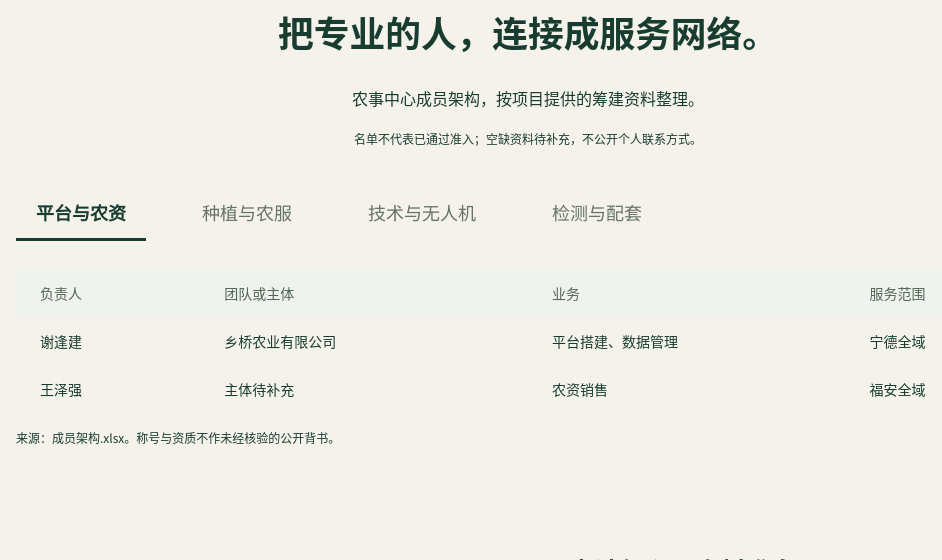
it: 官网农事卡、筹建成员与执行标准 › 保留12条有效筹建记录，不推断空缺，不公开称号背书
Expected: the text "名单不代表已通过准入；空缺资料待补充，不公开个人联系方式。" is shown, x1=354 y1=130 x2=702 y2=147
Expected: the text "谢逢建" is shown, x1=16 y1=317 x2=200 y2=365
Click the tab "技术与无人机": (422, 213) x1=348 y1=186 x2=496 y2=241
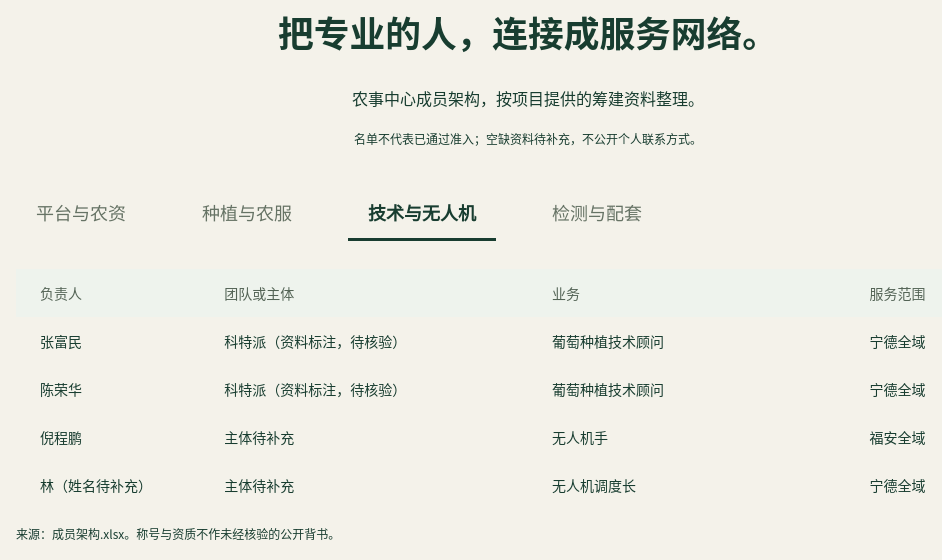
Result: the text "林（姓名待补充）" is shown at x1=16 y1=461 x2=200 y2=509
Result: the text "科特派（资料标注，待核验）" is shown 2 times at x1=200 y1=317 x2=528 y2=365; x1=200 y1=365 x2=528 y2=413
Click the tab "检测与配套": (597, 213) x1=532 y1=186 x2=662 y2=241
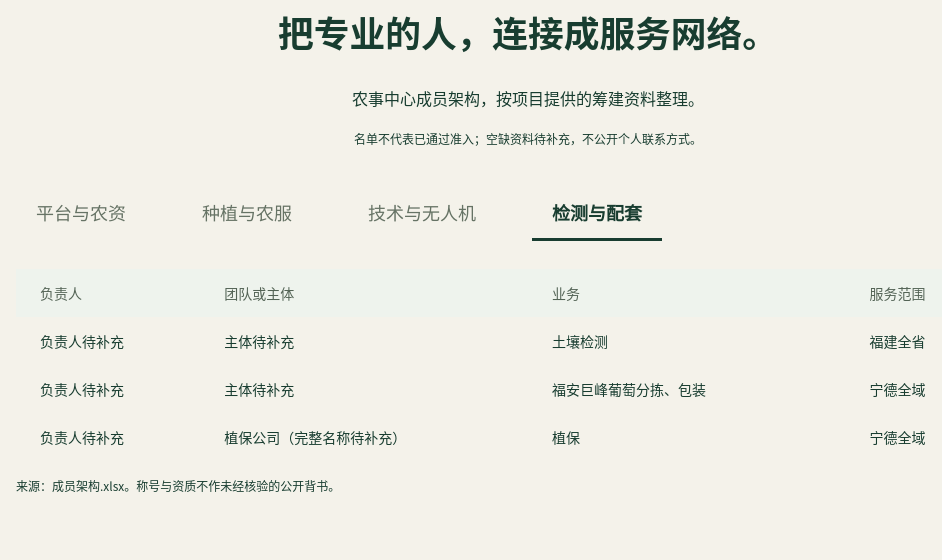
Result: the text "负责人待补充" is shown 3 times at x1=16 y1=317 x2=200 y2=365; x1=16 y1=365 x2=200 y2=413; x1=16 y1=413 x2=200 y2=461
